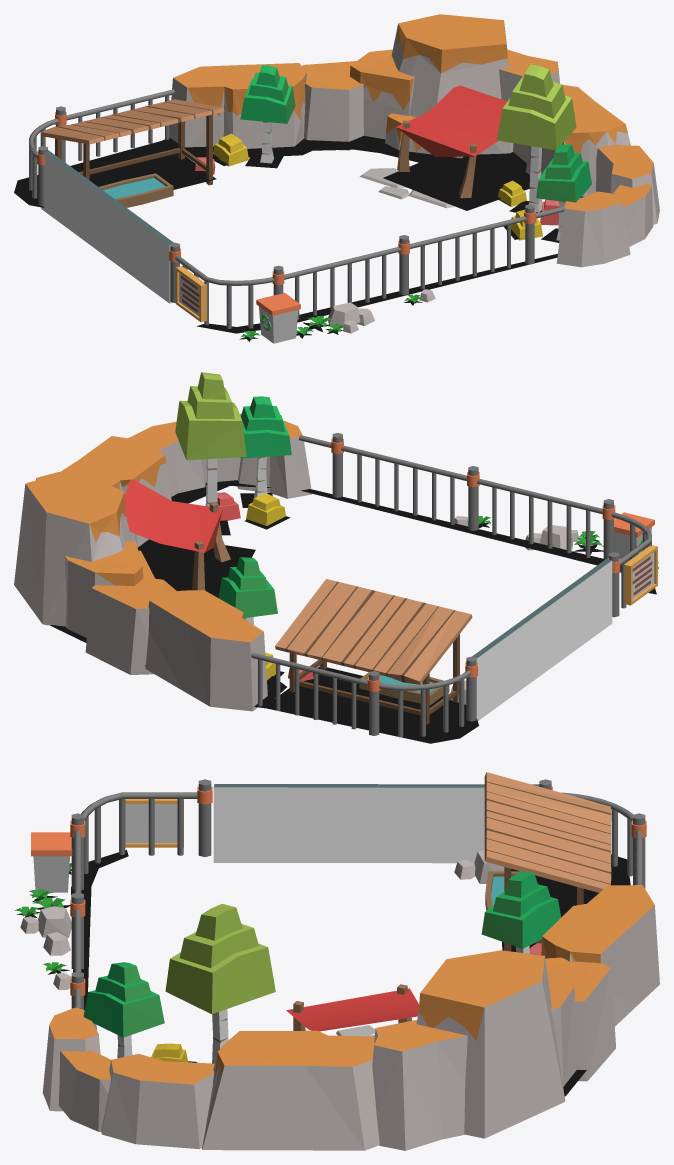
The model's file is xweilan_1002_3.FBX.
3 renders of one model, top to bottom at view 1: azimuth 30°, elevation 25°; view 2: azimuth 150°, elevation 25°; view 3: azimuth 270°, elevation 25°, orthographic. The views are drawn at different scales.
Parts seen in each view (by area): view 1: xweilan_1002_3; view 2: xweilan_1002_3; view 3: xweilan_1002_3.
Boxes of the visible parts, x1,y1,x2,y2 form: xweilan_1002_3: (14,14,659,343); xweilan_1002_3: (14,372,658,743); xweilan_1002_3: (14,772,659,1150).
Size of the model in its own units: 4837 by 1437 by 4396.
